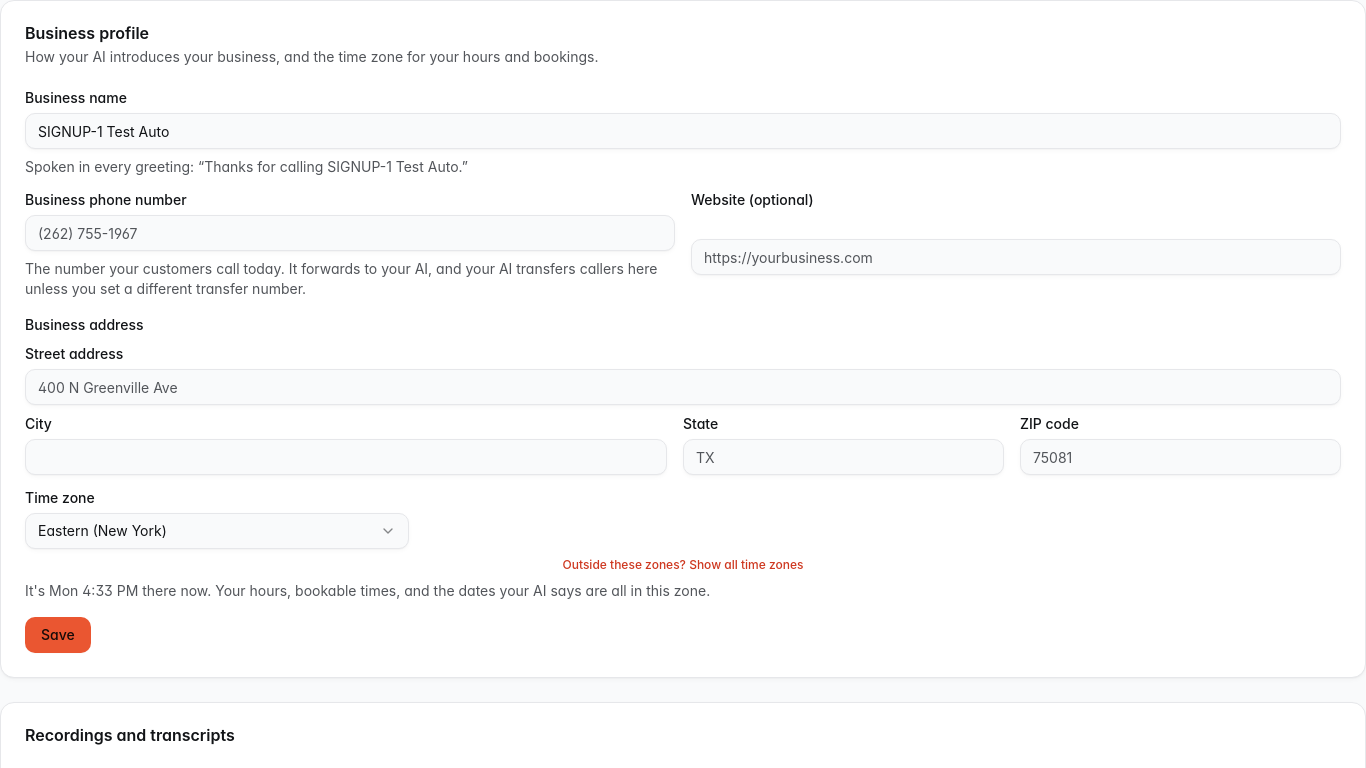
Test: BusinessTabPage (SETTINGS-1) › SETTINGS-1 review: shows the server's 'zone not supported' error under the picker
This screenshot has width=1366, height=768.
Step 1. Click the button "Outside these zones? Show all time zones" → (683, 565), box [25,557,1341,573]
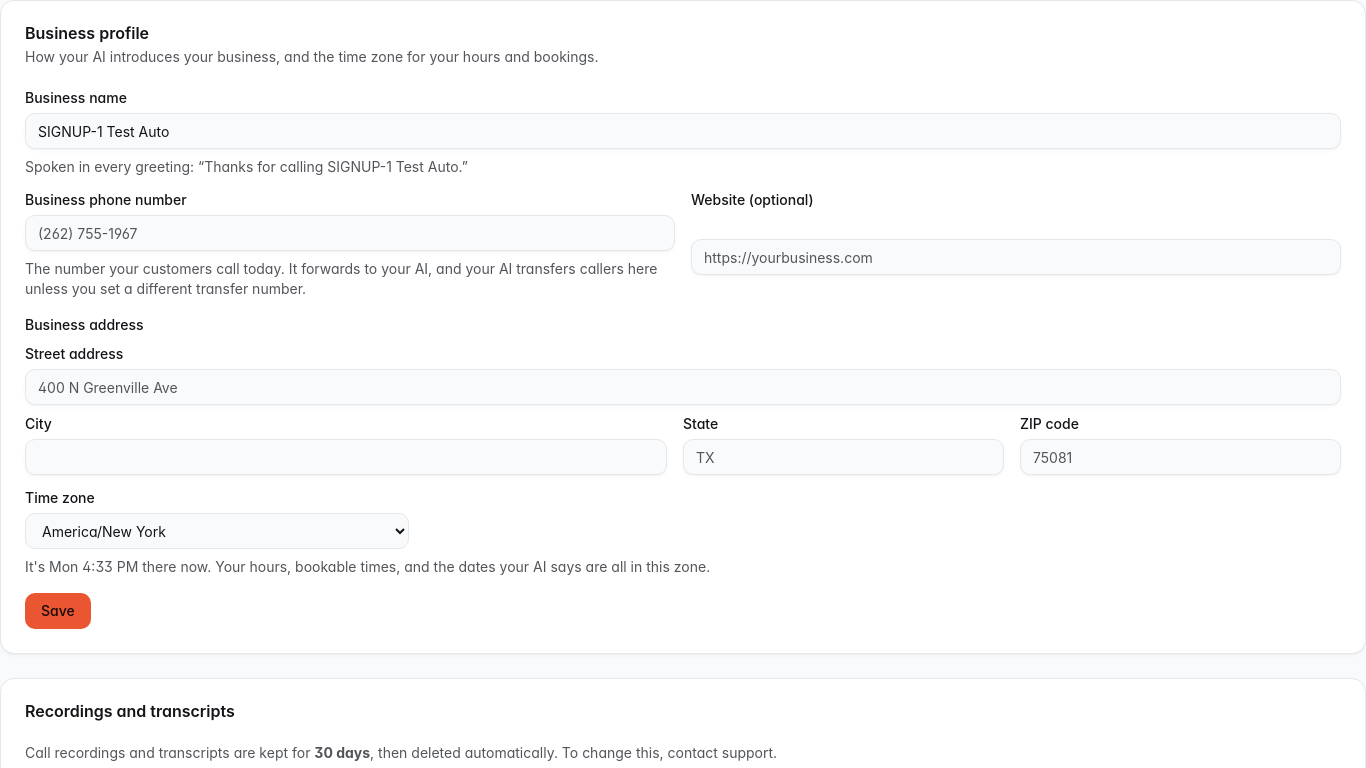
Step 2. Select "America/Boise" in the dropdown labelled "Time zone" → (217, 531), box [25,513,409,549]
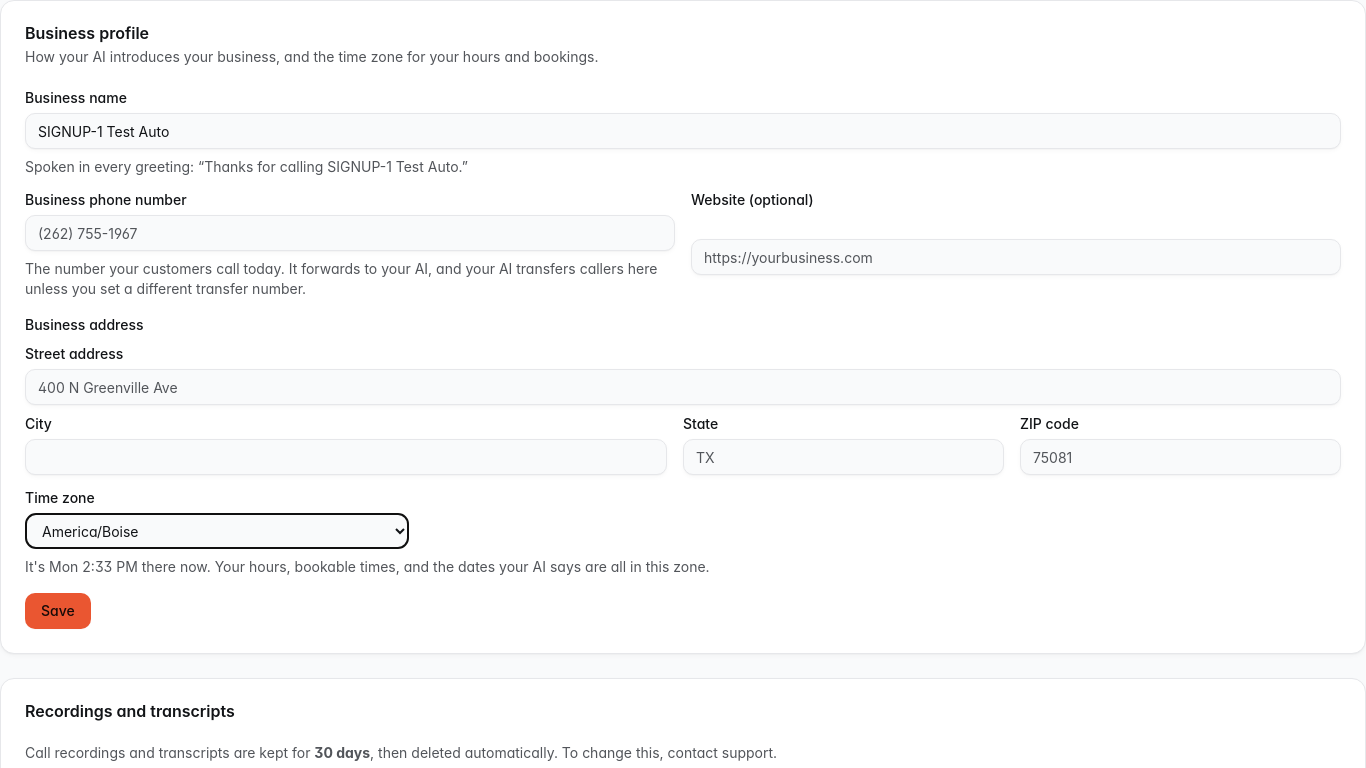
Step 3. Click the button "Save" → (58, 611), box [25,593,91,629]
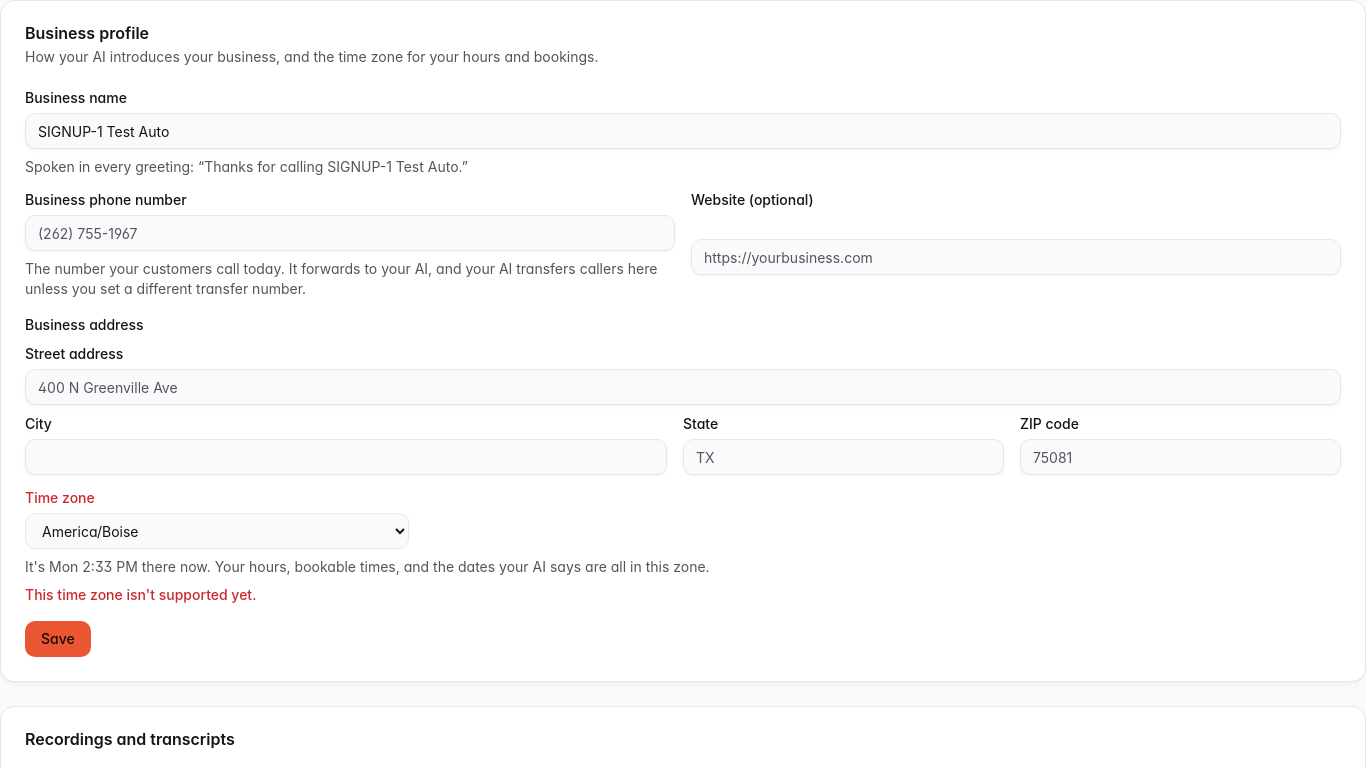
Expected: the text "This time zone isn't supported yet." is shown, [25,586,256,603]
